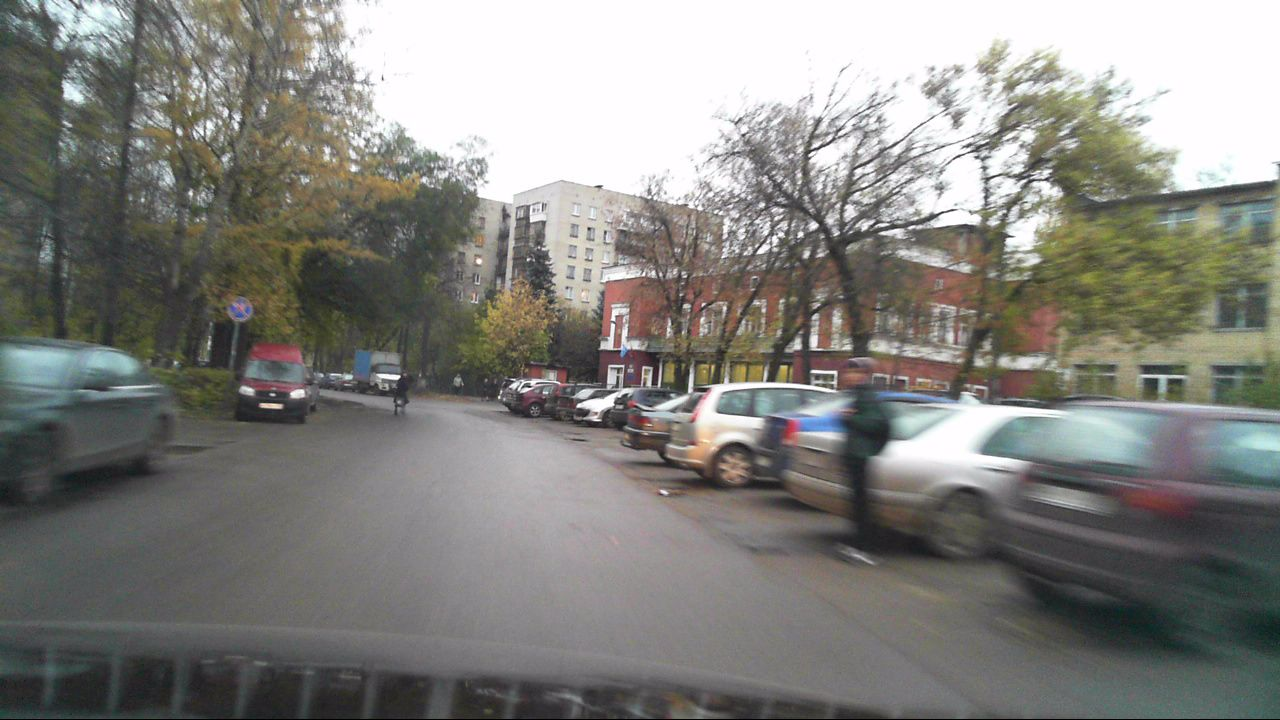No Parking: (225, 296, 251, 322)
